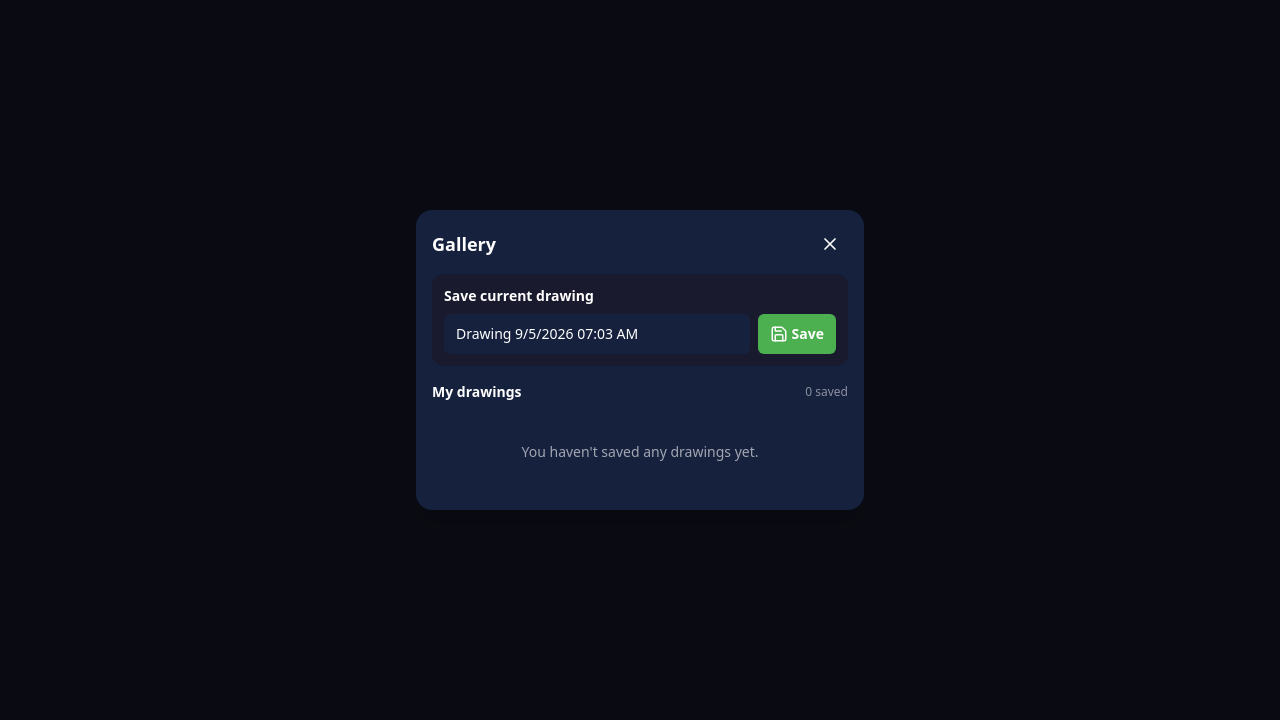
Scenario: Gallery (F05/FR-003) › reports that the name is required when trying to save empty (FR-007)
Clear the field at point(597, 334), box [444, 314, 750, 354]
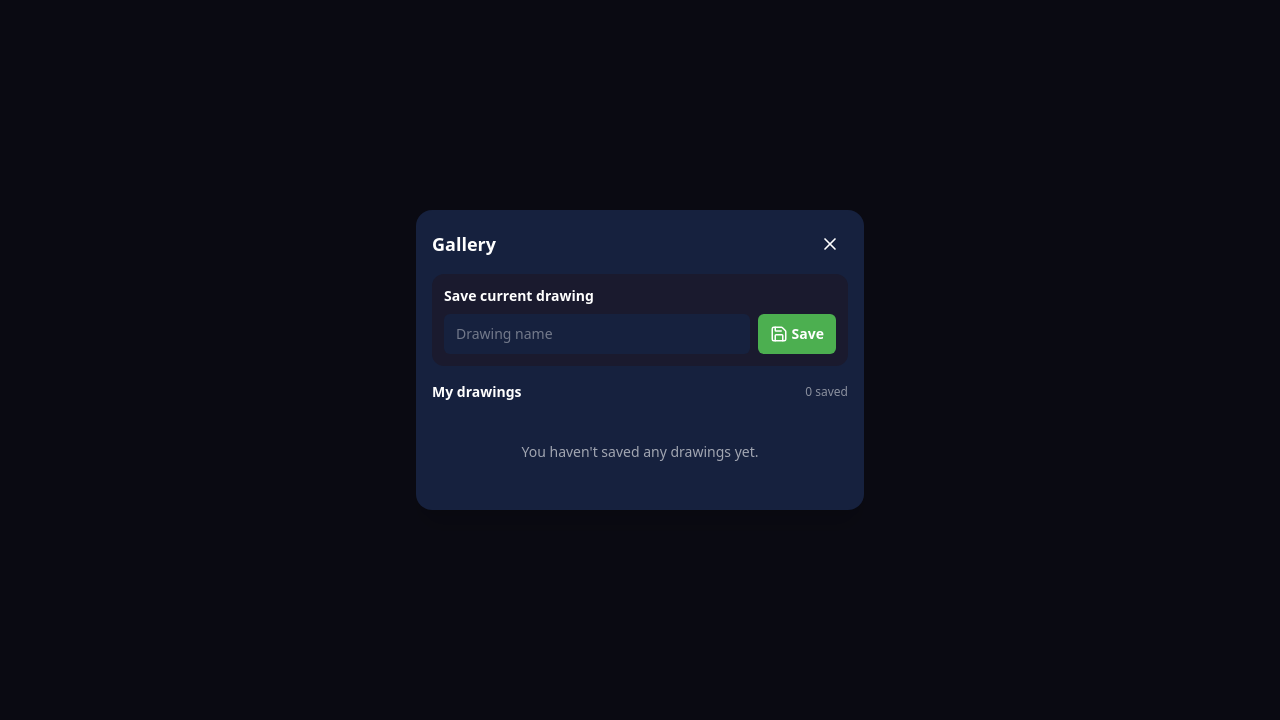
Click the button "Save" at point(797, 334), box [758, 314, 836, 354]
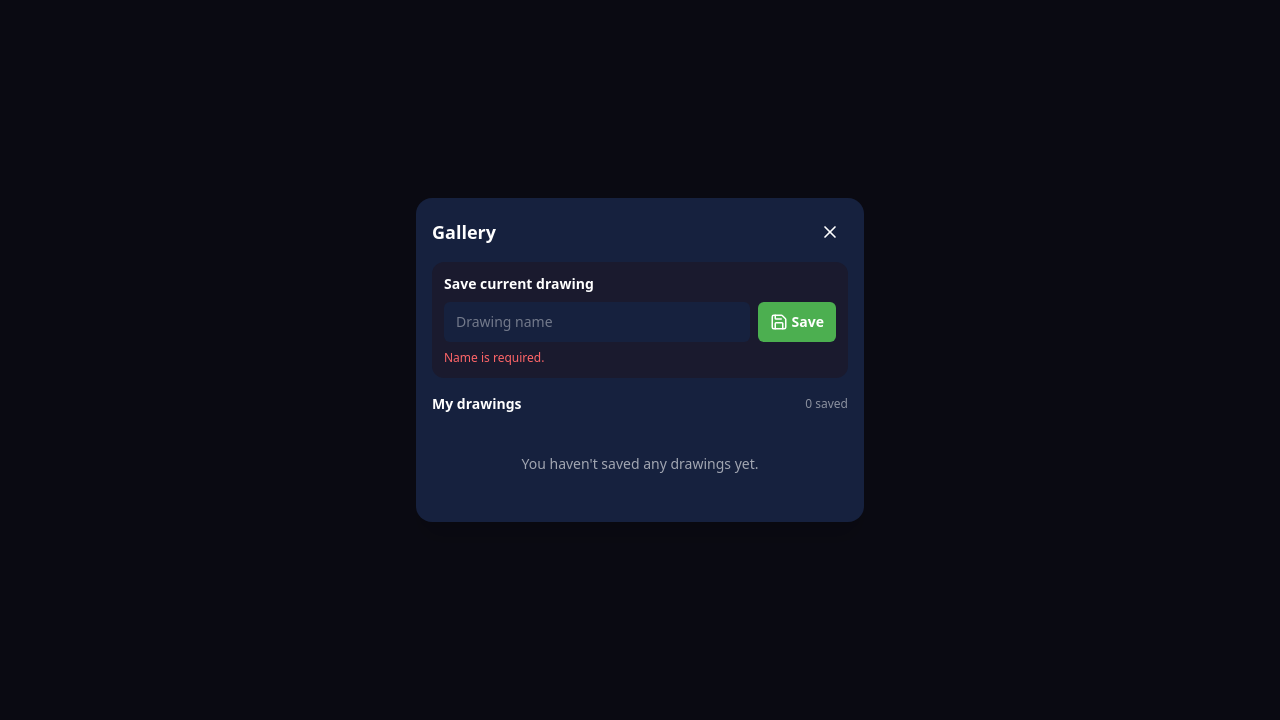
Check: the message "Name is required." is shown, box [444, 349, 544, 366]
Check: the text "Name is required." is shown, box [444, 349, 544, 366]
